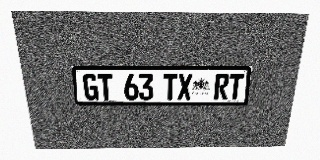3: (139, 74, 153, 100)
6: (124, 74, 139, 100)
G: (82, 74, 99, 100)
R: (214, 74, 230, 100)
T: (97, 74, 114, 100), (228, 74, 244, 100), (163, 74, 178, 100)
X: (177, 74, 192, 100)
